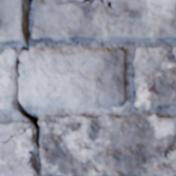brick: (40, 115, 175, 175), (33, 0, 175, 42), (134, 47, 175, 108), (0, 127, 38, 175), (0, 0, 27, 44), (0, 123, 27, 140)
broken_brick: (20, 45, 126, 109), (0, 48, 19, 113)
crack: (0, 0, 42, 173), (54, 0, 115, 10), (162, 133, 175, 161)
